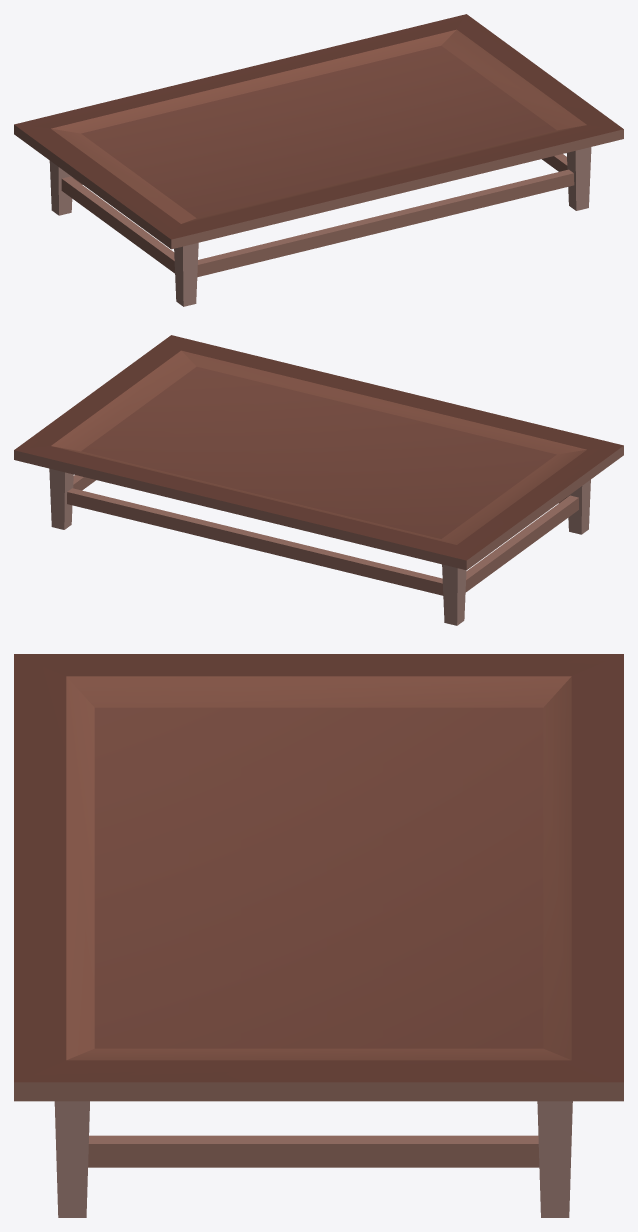
The model's file is coffee_table.glb.
The picture shows the model from 3 angles, top to bottom: view 1: azimuth 30°, elevation 25°; view 2: azimuth 150°, elevation 25°; view 3: azimuth 270°, elevation 25°; orthographic projection. The views are drawn at different scales.
Parts seen in each view (by area): view 1: coffee_table_001; view 2: coffee_table_001; view 3: coffee_table_001.
Boxes of the visible parts, x1=… form: coffee_table_001: x1=14, y1=14, x2=623, y2=306; coffee_table_001: x1=14, y1=335, x2=623, y2=625; coffee_table_001: x1=14, y1=654, x2=623, y2=1217.
Size of the model in its own units: 1.72 by 0.2952 by 1.03.
1 material, 1 textured.
